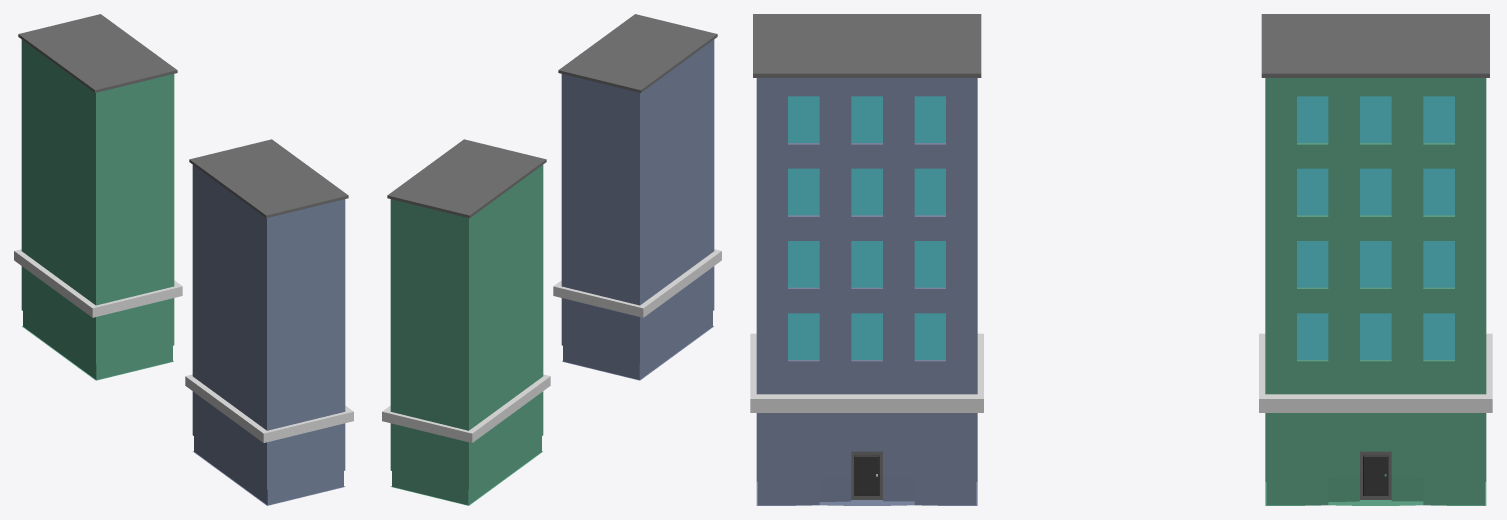
The model's file is hohohohohme.fbx.
3 renders of one model, left to right at view 1: azimuth 30°, elevation 25°; view 2: azimuth 150°, elevation 25°; view 3: azimuth 270°, elevation 25°, orthographic. The views are drawn at different scales.
Parts seen in each view (by area): view 1: sfsfsf, gfhfh; view 2: gfhfh, sfsfsf; view 3: gfhfh, sfsfsf.
Part boxes in pixels (x1,y1,x2,y2): sfsfsf: (14, 14, 182, 380); gfhfh: (185, 139, 353, 505); gfhfh: (553, 14, 721, 380); sfsfsf: (382, 139, 550, 505); gfhfh: (750, 14, 983, 505); sfsfsf: (1259, 14, 1492, 505).
Bounding box in the file's own units: 6300 × 19513 × 30202.
